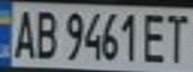1: (118, 9, 142, 62)
4: (81, 8, 103, 61)
6: (100, 9, 121, 62)
9: (60, 8, 84, 61)
A: (9, 6, 39, 61)
B: (30, 7, 60, 61)
E: (139, 10, 172, 64)
T: (163, 10, 193, 64)
